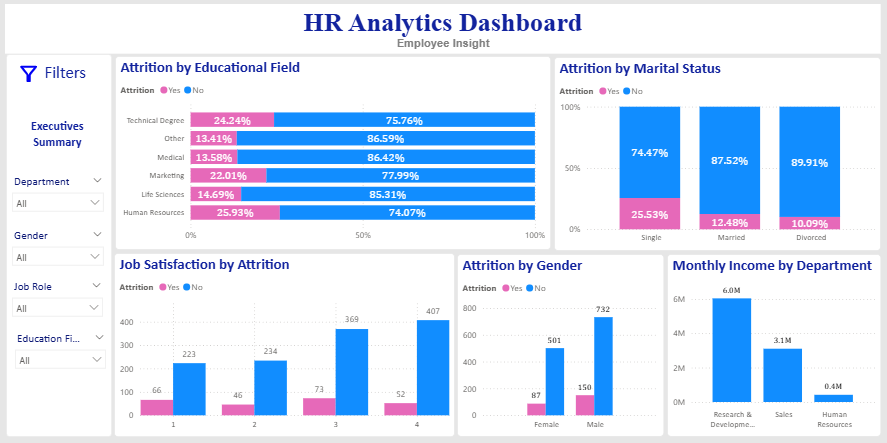

The page's visual inventory and layout, read from the dashboard file:
{"tool":"powerbi","page":{"name":"Employees Insight","canvas":[1280,720],"ordinal":1},"visuals":[{"type":"textbox","box":[10,7.1,1251.4,71.4],"z":0},{"type":"shape","box":[11.4,78.6,151.4,611.4],"z":1000},{"type":"textbox","box":[12.2,700,150,497.3],"z":2000},{"type":"textbox","box":[61.4,84.3,91.4,41.4],"z":3000},{"type":"slicer","fields":{"Values":["WA_Fn-UseC_-HR-Employee-Attriti.Department"]},"box":[10,245.7,151.4,70],"z":4000},{"type":"slicer","fields":{"Values":["WA_Fn-UseC_-HR-Employee-Attriti.Gender"]},"box":[10,322.9,151.4,72.9],"z":5000},{"type":"slicer","fields":{"Values":["WA_Fn-UseC_-HR-Employee-Attriti.JobRole"]},"box":[10,395.7,150,74.3],"z":6000},{"type":"slicer","fields":{"Values":["WA_Fn-UseC_-HR-Employee-Attriti.EducationField"]},"box":[14.3,470,150,72.9],"z":7000},{"type":"actionButton","title":"Employee In","box":[15.7,158.6,142.9,64.3],"z":8000},{"type":"hundredPercentStackedBarChart","title":"Attrition by Educational Field","fields":{"Category":["WA_Fn-UseC_-HR-Employee-Attriti.EducationField"],"Y":["Sum(WA_Fn-UseC_-HR-Employee-Attriti.EmployeeCount)"],"Series":["WA_Fn-UseC_-HR-Employee-Attriti.Attrition"]},"box":[167.1,81.4,622.9,302.9],"z":9000},{"type":"columnChart","title":"Monthly Income by Department","fields":{"Category":["WA_Fn-UseC_-HR-Employee-Attriti.Department"],"Y":["Sum(WA_Fn-UseC_-HR-Employee-Attriti.MonthlyIncome)"]},"box":[955.7,384.3,305.7,305.7],"z":10000},{"type":"clusteredColumnChart","title":"Job Satisfaction by Attrition","fields":{"Category":["WA_Fn-UseC_-HR-Employee-Attriti.JobSatisfaction"],"Series":["WA_Fn-UseC_-HR-Employee-Attriti.Attrition"],"Y":["Sum(WA_Fn-UseC_-HR-Employee-Attriti.EmployeeCount)"]},"box":[165.7,384.3,487.1,305.7],"z":11000},{"type":"clusteredColumnChart","title":"Attrition by Gender","fields":{"Series":["WA_Fn-UseC_-HR-Employee-Attriti.Attrition"],"Category":["WA_Fn-UseC_-HR-Employee-Attriti.Gender"],"Y":["Sum(WA_Fn-UseC_-HR-Employee-Attriti.EmployeeCount)"]},"box":[655.7,384.3,295.7,305.7],"z":12000},{"type":"hundredPercentStackedColumnChart","title":"Attrition by Marital Status","fields":{"Category":["WA_Fn-UseC_-HR-Employee-Attriti.MaritalStatus"],"Series":["WA_Fn-UseC_-HR-Employee-Attriti.Attrition"],"Y":["Sum(WA_Fn-UseC_-HR-Employee-Attriti.EmployeeCount)"]},"box":[794.3,82.9,467.1,301.4],"z":13000},{"type":"image","box":[25.7,88.6,35.7,37.1],"z":14000}]}

Visuals, with their boxes on the page's 1280x720 design canvas (x1, y1, x2, y2). These are canvas units, not pixel positions in the 887x443 screenshot, which may show the page scaled, cropped or inside an application window:
textbox: x1=10 y1=7 x2=1261 y2=78
shape: x1=11 y1=79 x2=163 y2=690
textbox: x1=12 y1=700 x2=162 y2=1197
textbox: x1=61 y1=84 x2=153 y2=126
slicer - WA_Fn-UseC_-HR-Employee-Attriti.Department: x1=10 y1=246 x2=161 y2=316
slicer - WA_Fn-UseC_-HR-Employee-Attriti.Gender: x1=10 y1=323 x2=161 y2=396
slicer - WA_Fn-UseC_-HR-Employee-Attriti.JobRole: x1=10 y1=396 x2=160 y2=470
slicer - WA_Fn-UseC_-HR-Employee-Attriti.EducationField: x1=14 y1=470 x2=164 y2=543
"Employee In" actionButton: x1=16 y1=159 x2=159 y2=223
"Attrition by Educational Field" hundredPercentStackedBarChart: x1=167 y1=81 x2=790 y2=384
"Monthly Income by Department" columnChart: x1=956 y1=384 x2=1261 y2=690
"Job Satisfaction by Attrition" clusteredColumnChart: x1=166 y1=384 x2=653 y2=690
"Attrition by Gender" clusteredColumnChart: x1=656 y1=384 x2=951 y2=690
"Attrition by Marital Status" hundredPercentStackedColumnChart: x1=794 y1=83 x2=1261 y2=384
image: x1=26 y1=89 x2=61 y2=126
